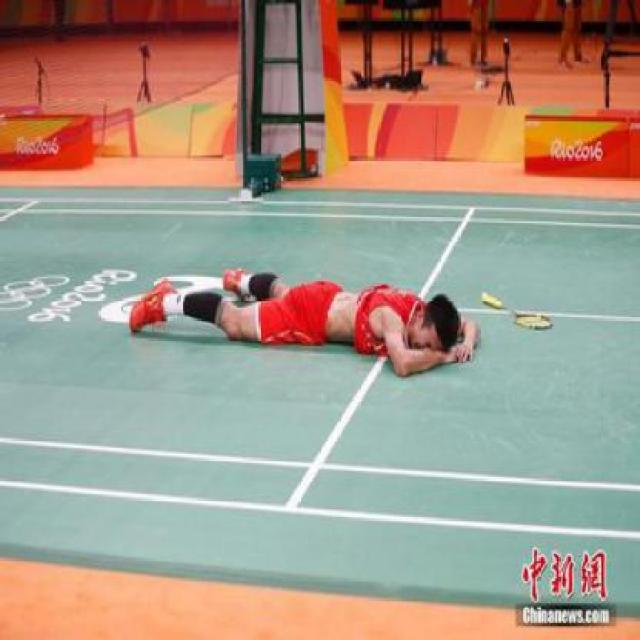fall: (118, 244, 473, 379)
